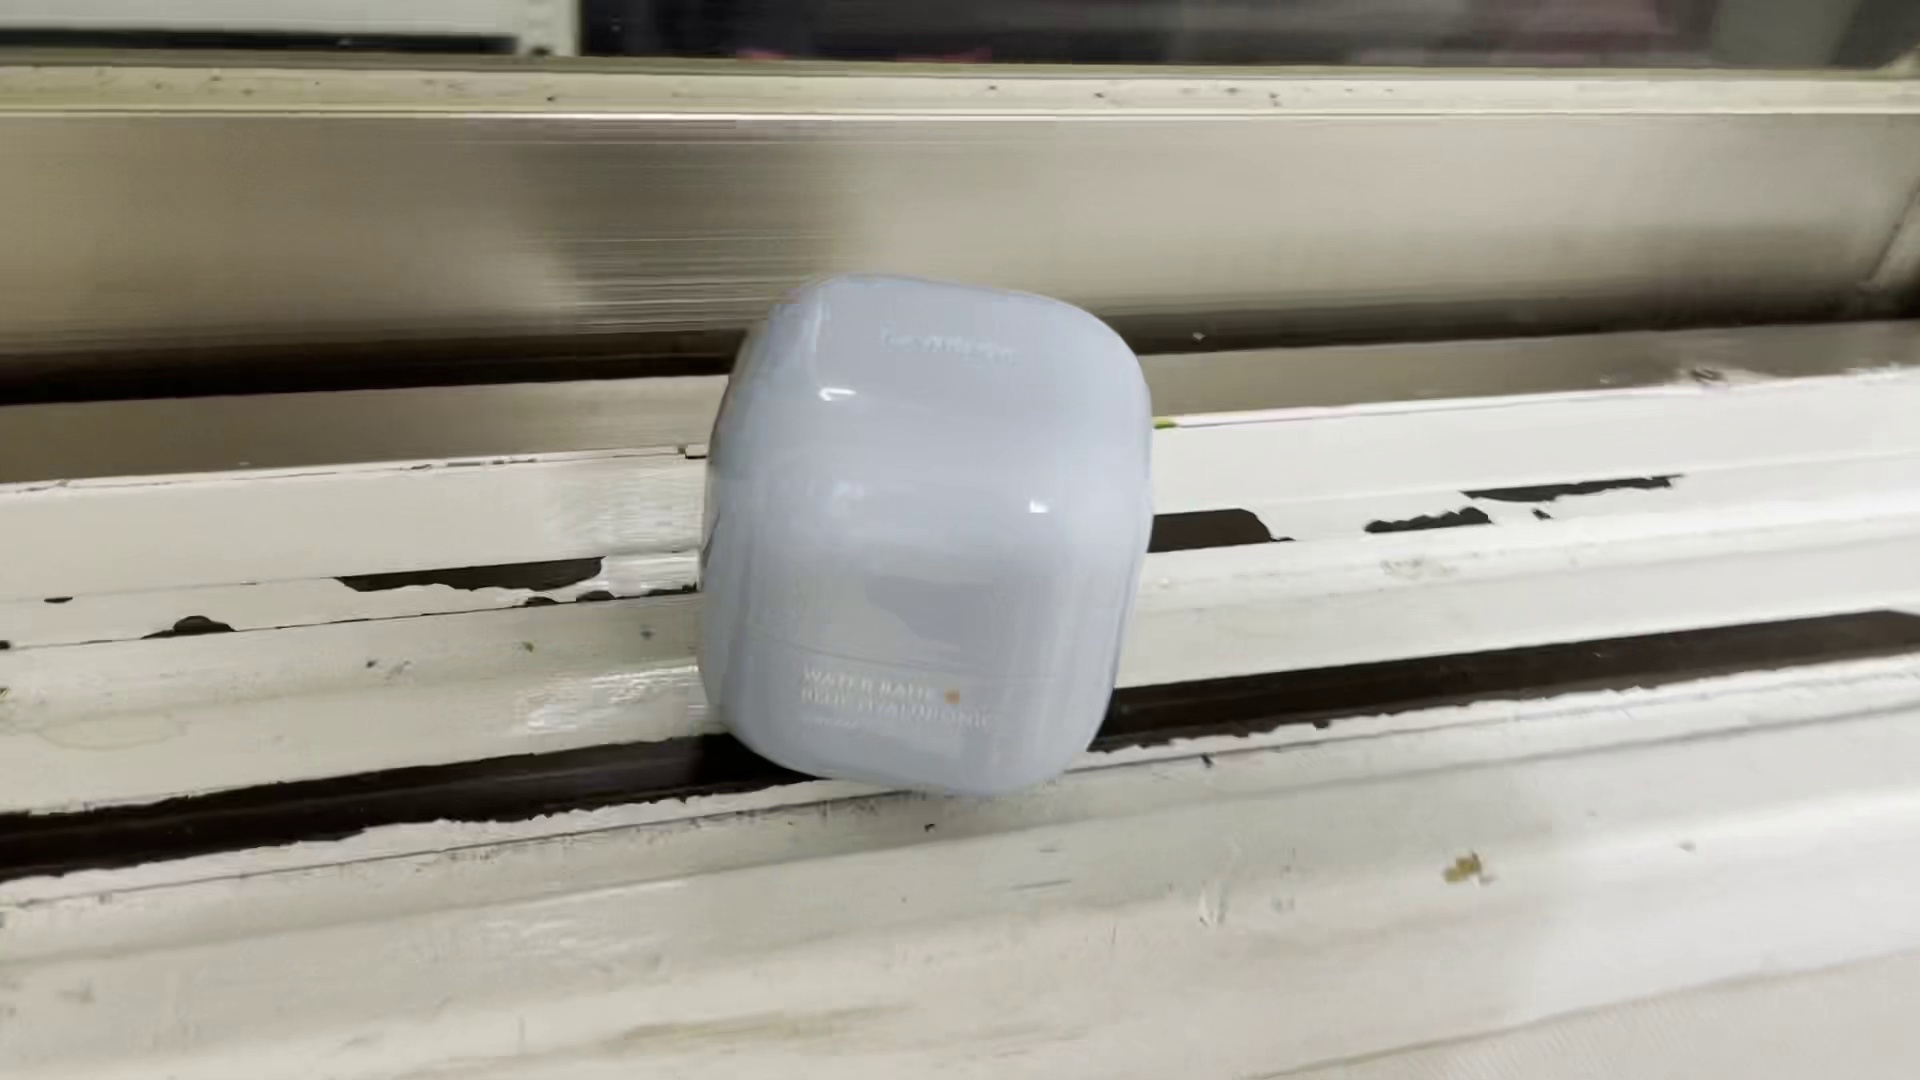cream: (702, 270, 1153, 796)
